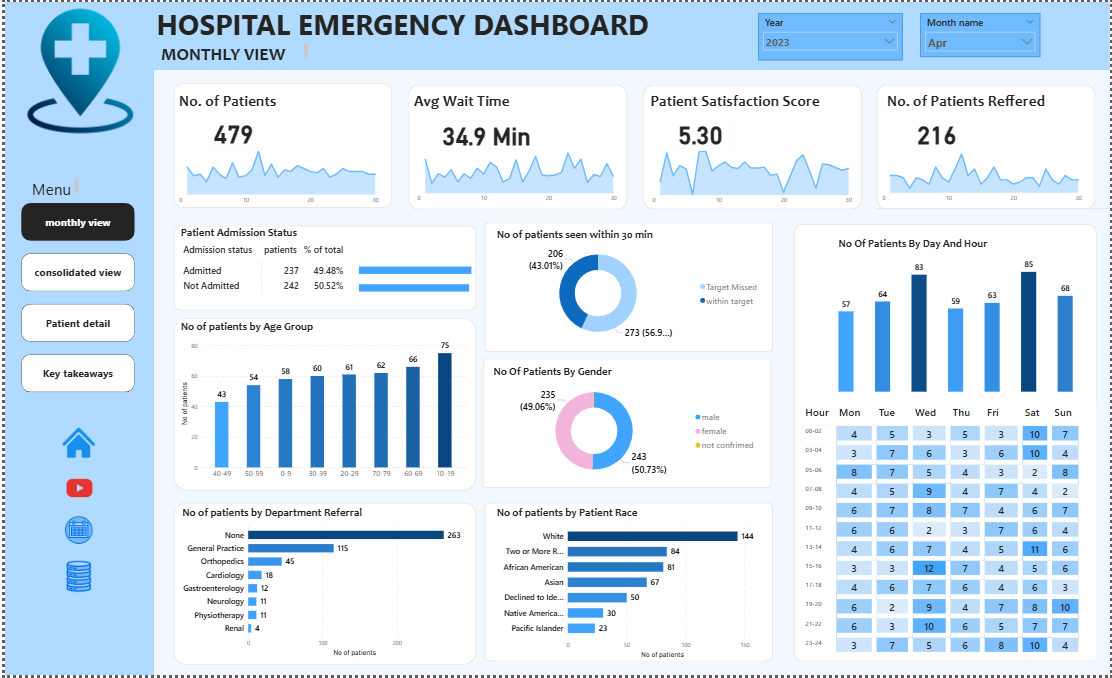

What the dashboard file says about the page in this screenshot:
{"tool":"powerbi","page":{"name":"monthly view","canvas":[2297,1400],"ordinal":0},"visuals":[{"type":"shape","box":[1812.6,171.8,455,259.4],"z":0},{"type":"shape","box":[352.1,169.6,455,260],"z":1000},{"type":"shape","box":[0,0,310,1403.3],"z":2000},{"type":"shape","box":[310,0,1987.8,141.5],"z":3000},{"type":"textbox","box":[310,0,1057.9,97.7],"z":4000},{"type":"cardVisual","fields":{"Data":["Hospital ER_Data.No of patients"]},"box":[404.3,225.7,148.2,94.3],"z":5000},{"type":"textbox","box":[320,80,314.3,48.6],"z":6000},{"type":"slicer","fields":{"Values":["Date table.Year"]},"box":[1566.7,23.6,299.9,97.7],"z":7000},{"type":"slicer","fields":{"Values":["Date table.Month name"]},"box":[1903.6,23.6,249.3,91],"z":8000},{"type":"textbox","box":[358,182,304,60],"z":9000},{"type":"areaChart","fields":{"Y":["Hospital ER_Data.No of patients"],"Category":["Date table.Date.Variation.Date Hierarchy.Day"]},"box":[350.4,296.5,434.6,134.8],"z":10000},{"type":"shape","box":[839,171.3,455,260],"z":11000},{"type":"cardVisual","fields":{"Data":["Hospital ER_Data.Average Waittime"]},"box":[879.4,229.1,269.5,94.3],"z":12000},{"type":"textbox","box":[844,182,304,60],"z":13000},{"type":"areaChart","fields":{"Category":["Date table.Date.Variation.Date Hierarchy.Day"],"Y":["Avg(Hospital ER_Data.Patient Waittime)"]},"box":[845.7,293.1,434.6,134.8],"z":14000},{"type":"shape","box":[1326,171.8,455,259.4],"z":15000},{"type":"cardVisual","fields":{"Data":["Hospital ER_Data.satisfaction score"]},"box":[1367.9,225.7,165.1,97.7],"z":16000},{"type":"textbox","box":[1338.6,181.4,390,60],"z":17000},{"type":"areaChart","fields":{"Category":["Date table.Date.Variation.Date Hierarchy.Day"],"Y":["Hospital ER_Data.satisfaction score"]},"box":[1335,297.5,435,135],"z":18000},{"type":"shape","box":[1812.6,427.9,485.2,3.4],"z":19000},{"type":"cardVisual","fields":{"Data":["Hospital ER_Data.no of patients reffered"]},"box":[1866.5,225.7,148.2,97.7],"z":20000},{"type":"textbox","box":[1829.5,181.9,367.2,60.6],"z":21000},{"type":"areaChart","fields":{"Category":["Date table.Date.Variation.Date Hierarchy.Day"],"Y":["Hospital ER_Data.no of patients reffered"]},"box":[1812.6,293.1,434.6,134.8],"z":22000},{"type":"shape","box":[350.4,464.9,630,177],"z":23000},{"type":"pivotTable","title":"Patient Admission Status","fields":{"Rows":["Hospital ER_Data.Admission status"],"Values":["Hospital ER_Data.No of patients1","Hospital ER_Data.No of patients"]},"box":[362,464,600,152],"z":24000},{"type":"barChart","fields":{"Category":["Hospital ER_Data.Admission status"],"Y":["Hospital ER_Data.No of patients"]},"box":[732.2,517.8,300,110],"z":25000},{"type":"shape","box":[351.1,655.6,630,360],"z":26000},{"type":"clusteredColumnChart","fields":{"Category":["Hospital ER_Data.Age Group"],"Y":["Hospital ER_Data.No of patients"]},"box":[361.7,660,601.7,341.7],"z":27000},{"type":"shape","box":[350,1040,630,337.5],"z":28000},{"type":"clusteredBarChart","fields":{"Category":["Hospital ER_Data.Department Referral"],"Y":["Hospital ER_Data.No of patients"]},"box":[362.2,1048.9,600,318.9],"z":29000},{"type":"shape","box":[996.7,458.3,600,270],"z":30000},{"type":"donutChart","title":"No of patients seen within 30 min","fields":{"Category":["Hospital ER_Data.wait time status"],"Y":["Hospital ER_Data.No of patients"]},"box":[1016.7,470,561.7,246.7],"z":31000},{"type":"shape","box":[993.3,741.7,600,270],"z":32000},{"type":"donutChart","title":"No Of Patients By Gender","fields":{"Y":["Hospital ER_Data.No of patients"],"Category":["Hospital ER_Data.Patient Gender"]},"box":[1012.3,753.7,561.7,246.7],"z":33000},{"type":"shape","box":[1388.3,1548.3,600,270],"z":34000},{"type":"shape","box":[996.7,1040,600,330],"z":35000},{"type":"clusteredBarChart","fields":{"Y":["Hospital ER_Data.No of patients"],"Category":["Hospital ER_Data.Patient Race"]},"box":[1016,1048,562,322],"z":36000},{"type":"shape","box":[1640,460,630,910],"z":37000},{"type":"pivotTable","fields":{"Rows":["Hospital ER_Data.Waittime Interval"],"Columns":["Date table.day name"],"Values":["Hospital ER_Data.No of patients"]},"box":[1654,832,614,536],"z":38000},{"type":"columnChart","title":"No Of Patients By Day And Hour","fields":{"Category":["Date table.day name"],"Y":["Hospital ER_Data.No of patients"]},"box":[1728,490,500,328],"z":39000},{"type":"pageNavigator","box":[33.3,416.7,236.7,396.7],"z":40000},{"type":"image","box":[117.9,1138.8,70.8,111.2],"z":41000},{"type":"image","box":[124.7,1057.9,57.3,80.9],"z":42000},{"type":"image","box":[91,865.9,124.7,101.1],"z":43000},{"type":"image","box":[128,963.6,53.9,94.3],"z":44000},{"type":"textbox","box":[50,360,106.7,46.7],"z":45000},{"type":"image","box":[6.7,13.3,300,260],"z":46000}]}

Visuals, with their boxes in screenshot pixels (x1, y1, x2, y2), scaled from the page's 2297x1400 canvas onto the 1112x678 screenshot:
shape: crop(877, 83, 1098, 209)
shape: crop(170, 82, 391, 208)
shape: crop(0, 0, 150, 677)
shape: crop(150, 0, 1111, 69)
textbox: crop(150, 0, 662, 47)
cardVisual - Hospital ER_Data.No of patients: crop(196, 109, 267, 155)
textbox: crop(155, 39, 307, 62)
slicer - Date table.Year: crop(758, 11, 904, 59)
slicer - Date table.Month name: crop(922, 11, 1042, 55)
textbox: crop(173, 88, 320, 117)
areaChart - Hospital ER_Data.No of patients x Date table.Date.Variation.Date Hierarchy.Day: crop(170, 144, 380, 209)
shape: crop(406, 83, 626, 209)
cardVisual - Hospital ER_Data.Average Waittime: crop(426, 111, 556, 157)
textbox: crop(409, 88, 556, 117)
areaChart - Date table.Date.Variation.Date Hierarchy.Day x Avg(Hospital ER_Data.Patient Waittime): crop(409, 142, 620, 207)
shape: crop(642, 83, 862, 209)
cardVisual - Hospital ER_Data.satisfaction score: crop(662, 109, 742, 157)
textbox: crop(648, 88, 837, 117)
areaChart - Date table.Date.Variation.Date Hierarchy.Day x Hospital ER_Data.satisfaction score: crop(646, 144, 857, 209)
shape: crop(877, 207, 1111, 209)
cardVisual - Hospital ER_Data.no of patients reffered: crop(904, 109, 975, 157)
textbox: crop(886, 88, 1063, 117)
areaChart - Date table.Date.Variation.Date Hierarchy.Day x Hospital ER_Data.no of patients reffered: crop(877, 142, 1088, 207)
shape: crop(170, 225, 475, 311)
"Patient Admission Status" pivotTable: crop(175, 225, 466, 298)
barChart - Hospital ER_Data.Admission status x Hospital ER_Data.No of patients: crop(354, 251, 500, 304)
shape: crop(170, 317, 475, 492)
clusteredColumnChart - Hospital ER_Data.Age Group x Hospital ER_Data.No of patients: crop(175, 320, 466, 485)
shape: crop(169, 504, 474, 667)
clusteredBarChart - Hospital ER_Data.Department Referral x Hospital ER_Data.No of patients: crop(175, 508, 466, 662)
shape: crop(483, 222, 773, 353)
"No of patients seen within 30 min" donutChart: crop(492, 228, 764, 347)
shape: crop(481, 359, 771, 490)
"No Of Patients By Gender" donutChart: crop(490, 365, 762, 484)
shape: crop(483, 504, 773, 663)
clusteredBarChart - Hospital ER_Data.No of patients x Hospital ER_Data.Patient Race: crop(492, 508, 764, 663)
shape: crop(794, 223, 1099, 663)
pivotTable - Hospital ER_Data.Waittime Interval x Date table.day name: crop(801, 403, 1098, 663)
"No Of Patients By Day And Hour" columnChart: crop(837, 237, 1079, 396)
pageNavigator: crop(16, 202, 131, 394)
image: crop(57, 552, 91, 605)
image: crop(60, 512, 88, 552)
image: crop(44, 419, 104, 468)
image: crop(62, 467, 88, 512)
textbox: crop(24, 174, 76, 197)
image: crop(3, 6, 148, 132)
